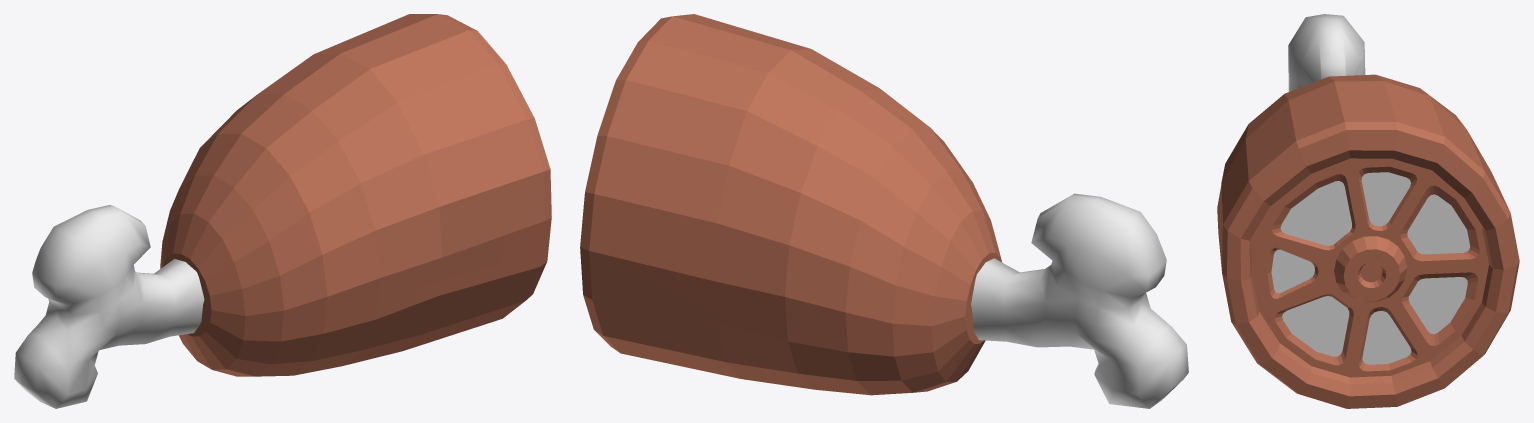
Rendered from CarneSinCortar.fbx.
3 views of the same model, side by side, from view 1: azimuth 30°, elevation 25°; view 2: azimuth 150°, elevation 25°; view 3: azimuth 270°, elevation 25° (orthographic). The views are drawn at different scales.
Parts seen in each view (by area): view 1: Ham_Drumstick; view 2: Ham_Drumstick; view 3: Ham_Drumstick.
Part boxes in pixels (x1,y1,x2,y2): Ham_Drumstick: (14,14,551,408); Ham_Drumstick: (580,14,1188,408); Ham_Drumstick: (1217,14,1519,408).
Size of the model in its own units: 39.44 by 22.92 by 21.82.
